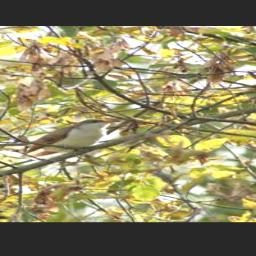Cuckoo: (10, 115, 125, 156)
